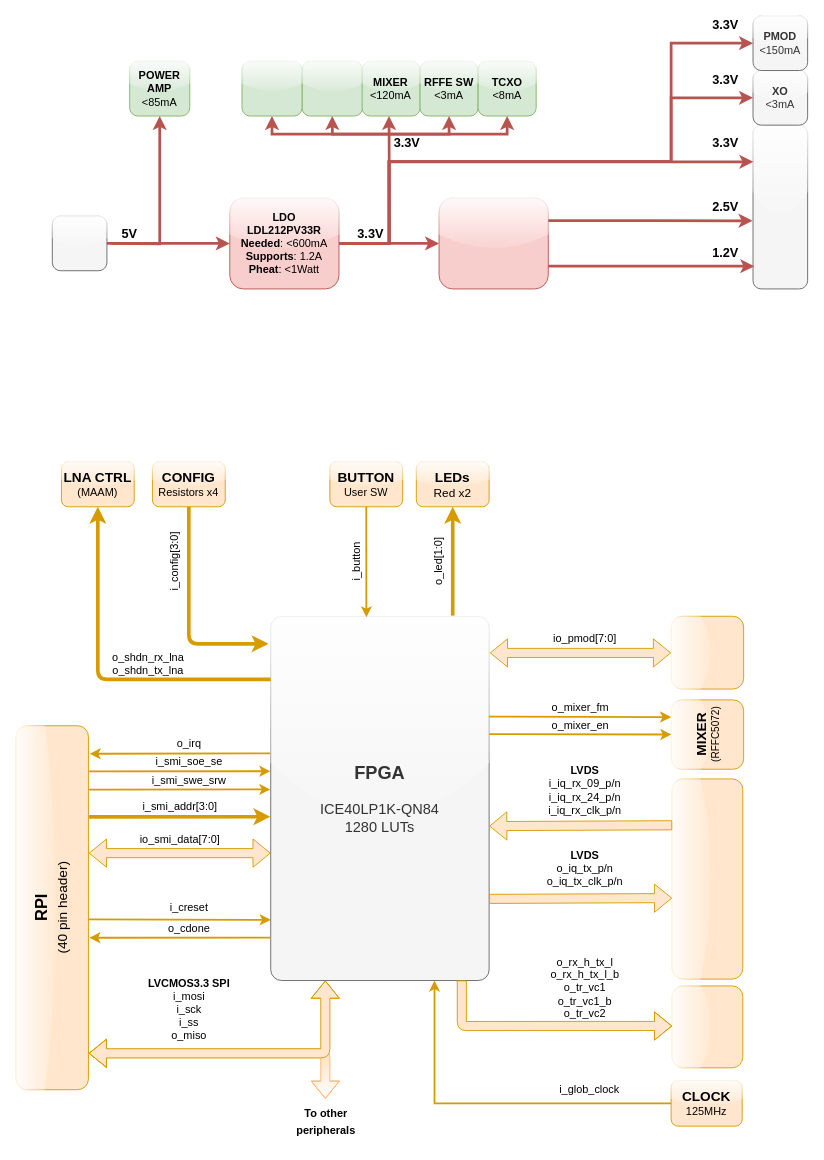
This 824x1160 diagram has some shape labels left out. The centre of each missing label's shape, as x and y in pixels:
FPGA <100mA: pixel 780 206
LDO x2 TLV7111225DSER: pixel 493 243
LNA <70mA: pixel 271 88
MODEM (AT86RF215): pixel 707 878
MODEM <80mA: pixel 332 88
PMOD: pixel 707 652
RF SW CTRL: pixel 707 1026
RPI: pixel 79 243
